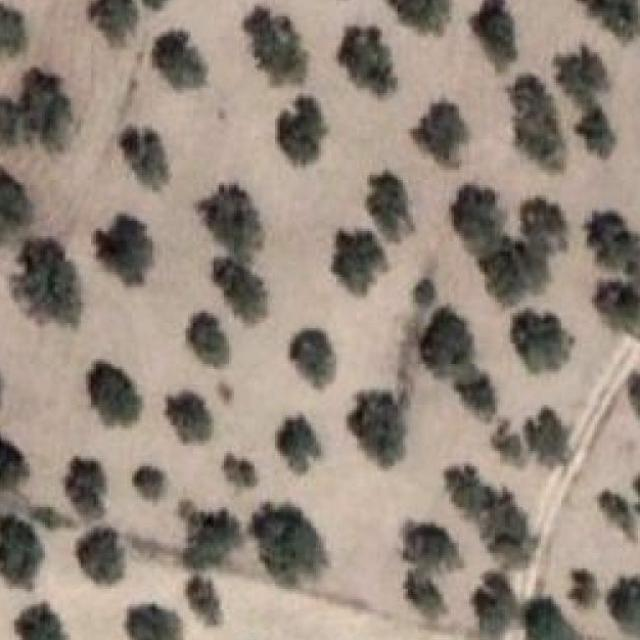Tree: (449, 466, 539, 564), (503, 76, 570, 170), (17, 239, 80, 330), (252, 505, 323, 583), (16, 67, 76, 152), (350, 393, 414, 470), (196, 185, 266, 253), (244, 6, 308, 80), (93, 214, 153, 292), (176, 505, 244, 571), (147, 27, 212, 93), (483, 241, 548, 306), (84, 357, 140, 430), (449, 185, 510, 252), (339, 30, 400, 96), (413, 98, 473, 163), (469, 0, 522, 72), (513, 313, 579, 370), (584, 211, 640, 277), (419, 308, 473, 372), (334, 229, 386, 294), (116, 122, 170, 184), (212, 259, 268, 318), (585, 279, 640, 339), (75, 527, 128, 589), (0, 512, 42, 590), (526, 405, 576, 469), (275, 98, 324, 162), (290, 328, 342, 387), (466, 571, 514, 634), (520, 193, 572, 250), (554, 45, 610, 96), (454, 369, 505, 424), (270, 415, 315, 475), (68, 456, 112, 517), (370, 175, 410, 242), (166, 389, 214, 444), (0, 165, 34, 241), (400, 566, 446, 622), (406, 528, 467, 570), (576, 0, 640, 39), (391, 0, 458, 37), (186, 310, 227, 368), (520, 599, 576, 640), (86, 0, 137, 44), (576, 106, 620, 156), (127, 601, 181, 640), (607, 573, 640, 635), (12, 601, 64, 640), (186, 574, 225, 626), (0, 430, 31, 492), (602, 492, 640, 542), (490, 420, 526, 466), (22, 496, 66, 532), (0, 1, 28, 55), (564, 566, 600, 606), (132, 464, 168, 503), (226, 456, 260, 489), (619, 374, 640, 425), (0, 90, 21, 140), (413, 277, 434, 301), (142, 0, 170, 15)
